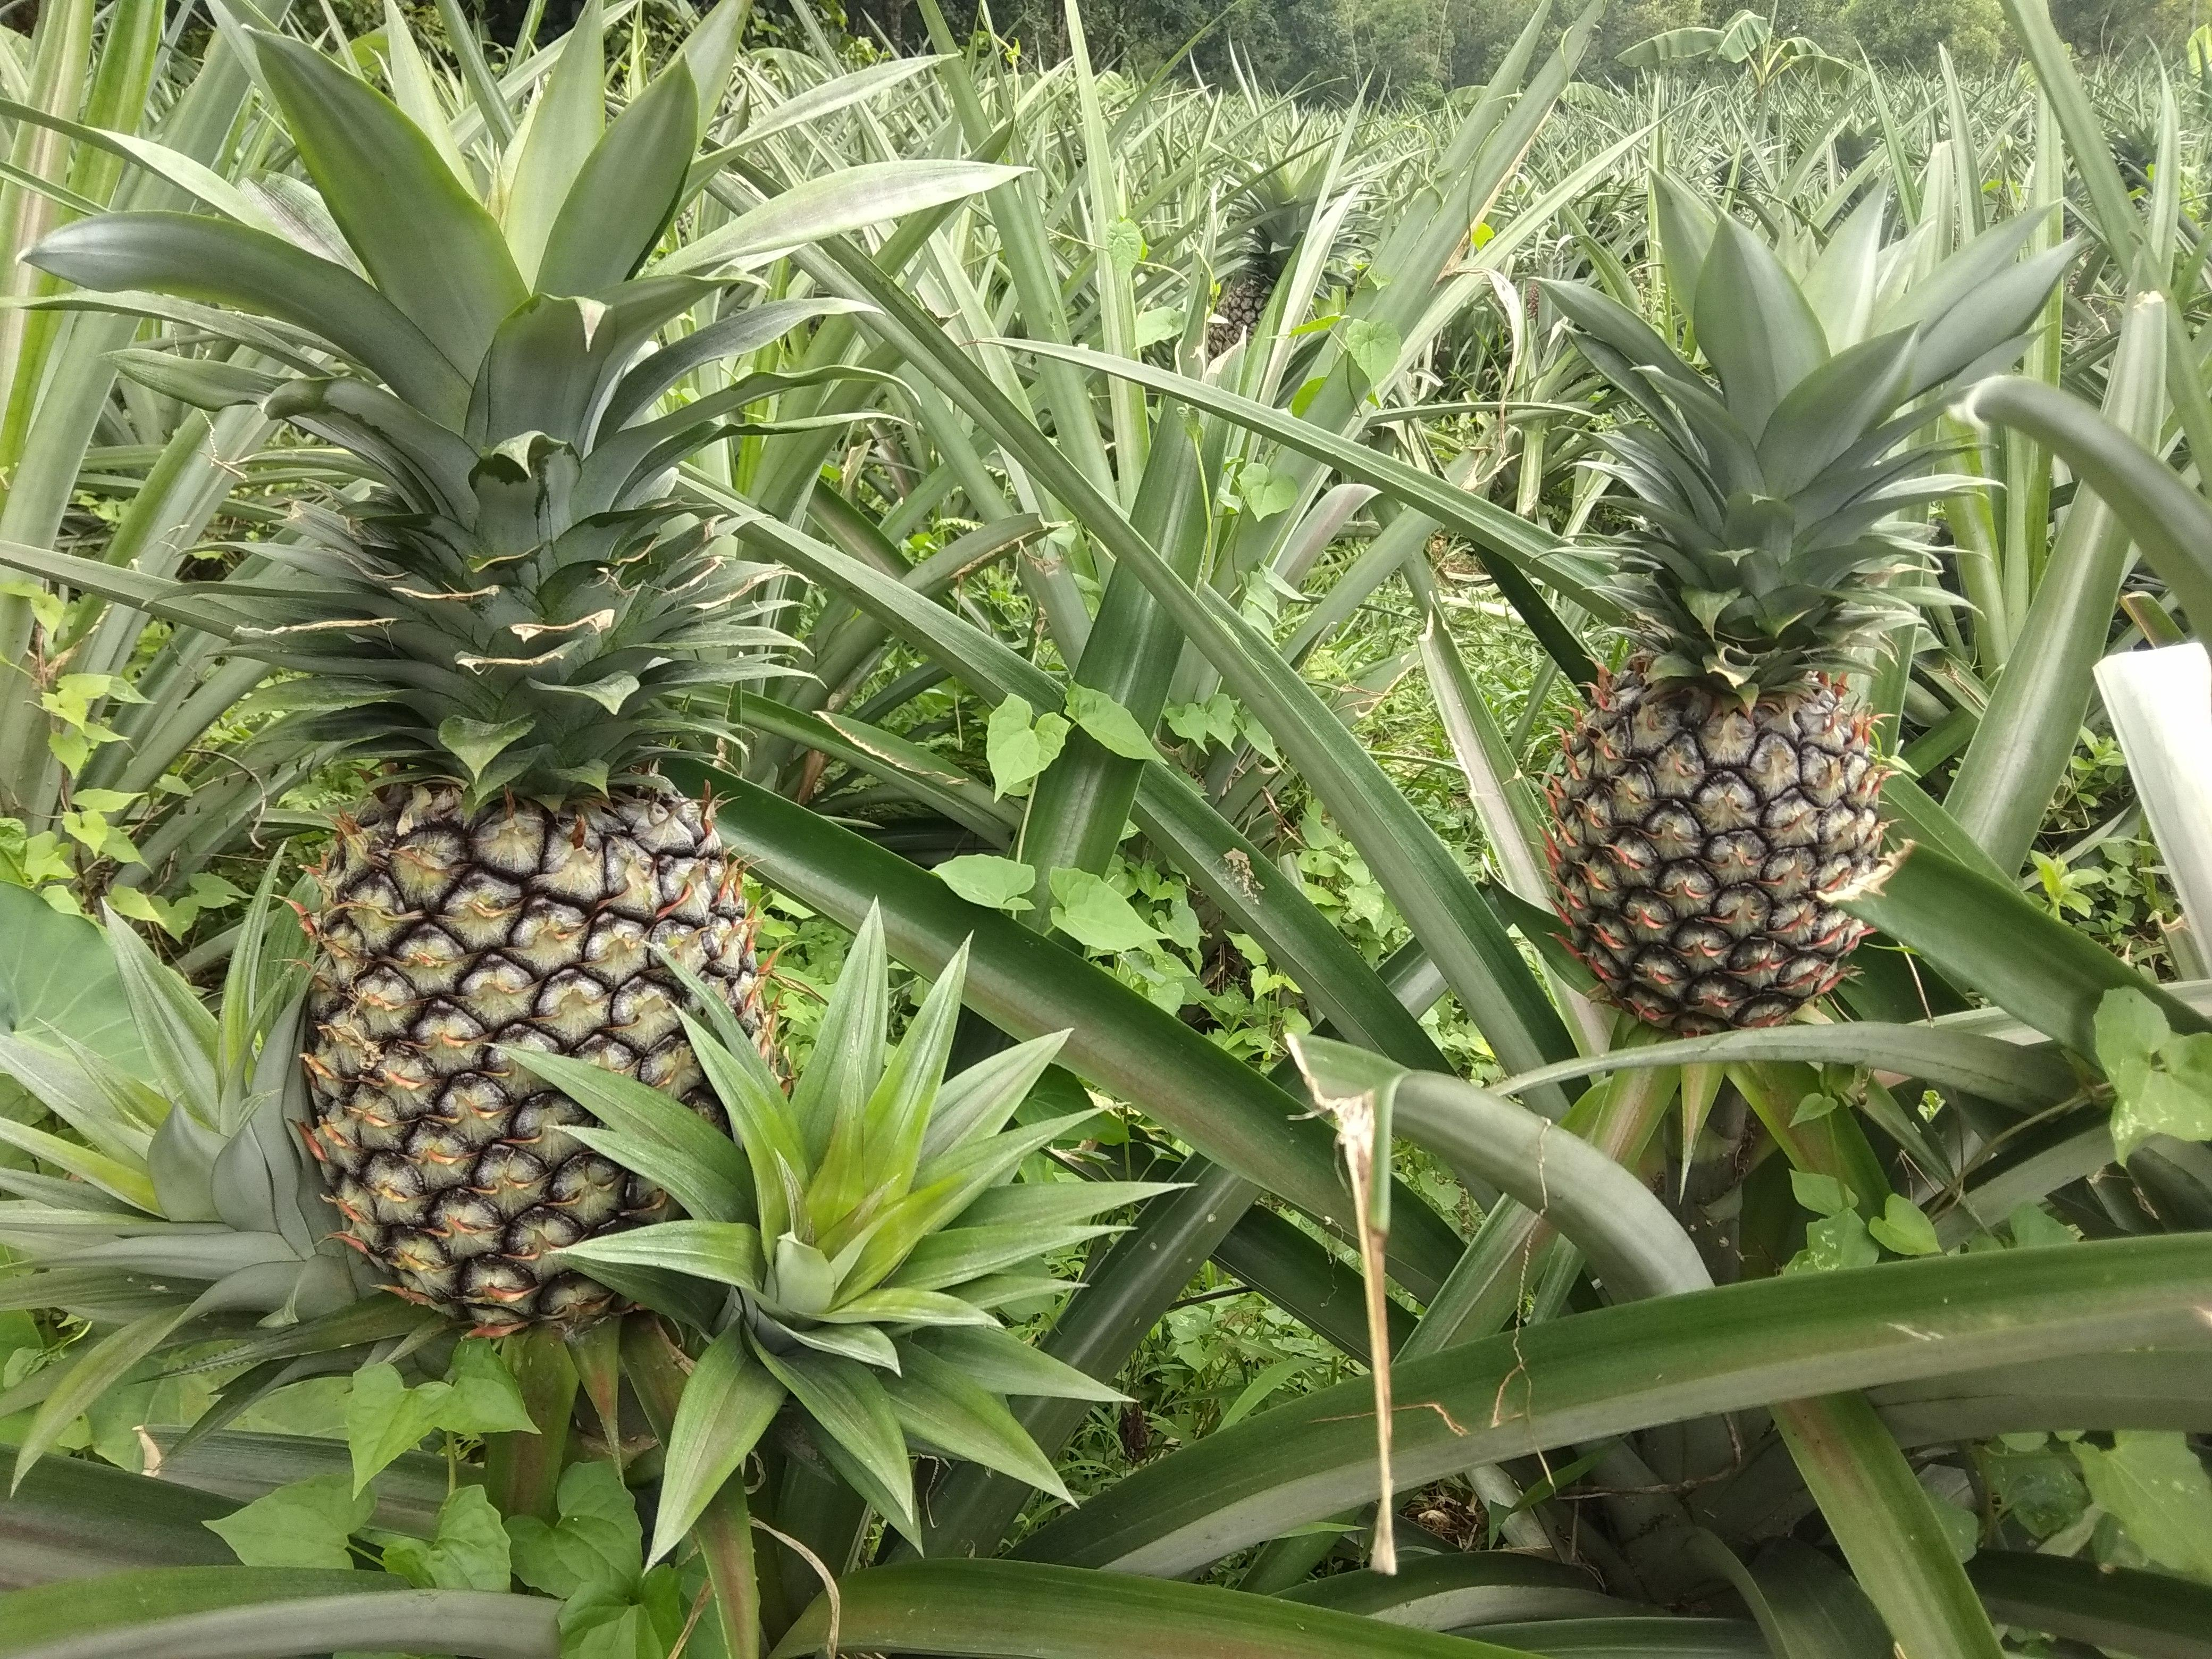pineapple: (56, 28, 979, 1330), (1440, 166, 1989, 1044)
